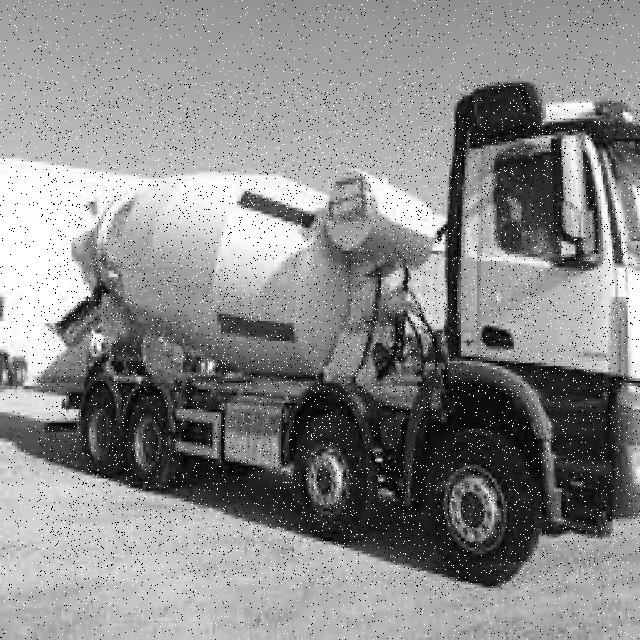Concrete Mixer: (38, 82, 640, 588)
